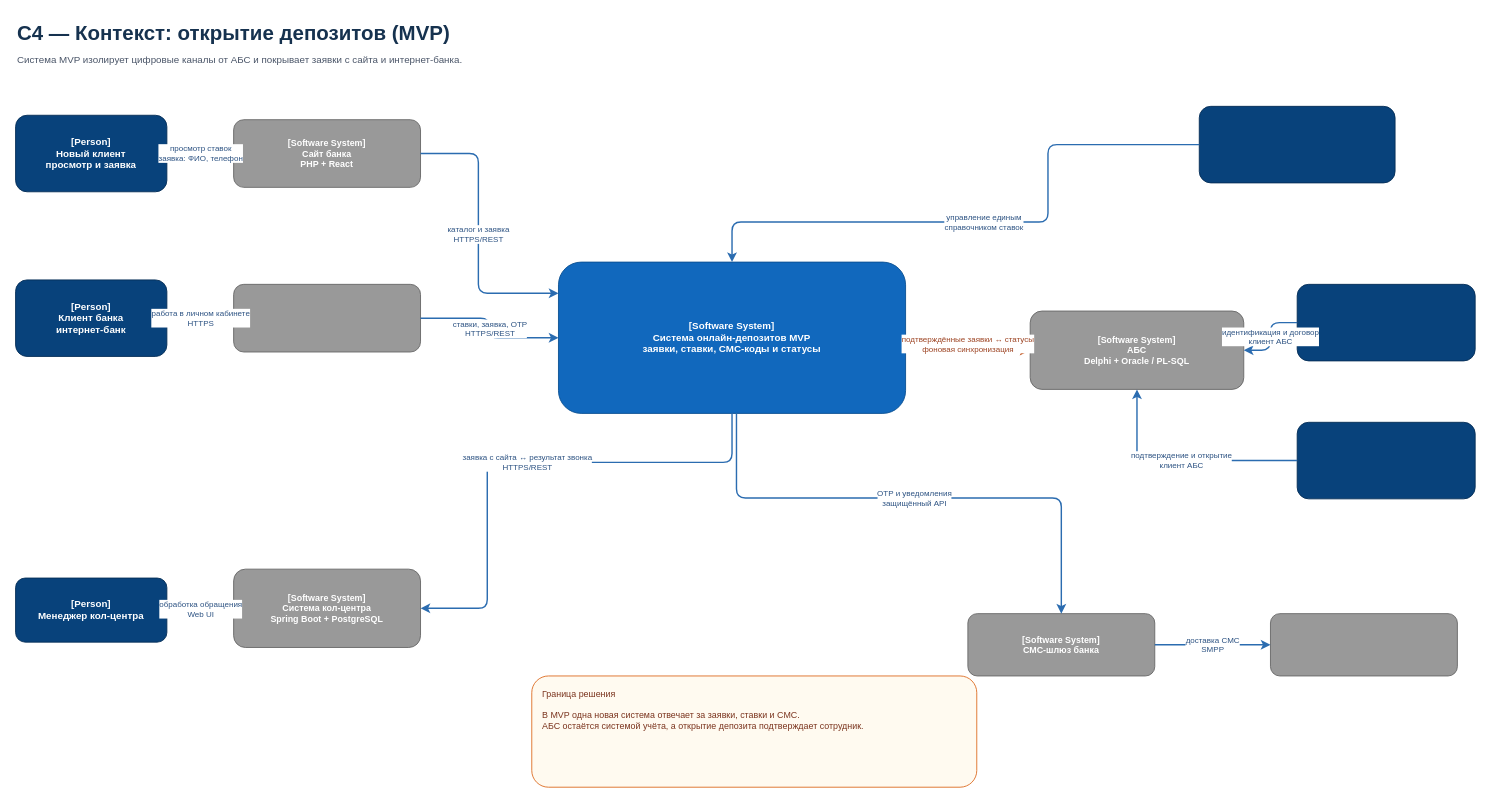
This 1491x803 diagram has some shape labels left out. The centre of each missing label's shape, as x and y in pixels:
[External System] Телеком-оператор: point 1363,644
[Person] Депозитный и кредитный бэк-офисы: point 1296,144
[Person] Менеджер депозитного бэк-офиса: point 1385,460
[Person] Сотрудник отделения идентификация клиента: point 1385,322
[Software System] Интернет-банк ASP.NET MVC 4.5: point 327,317
